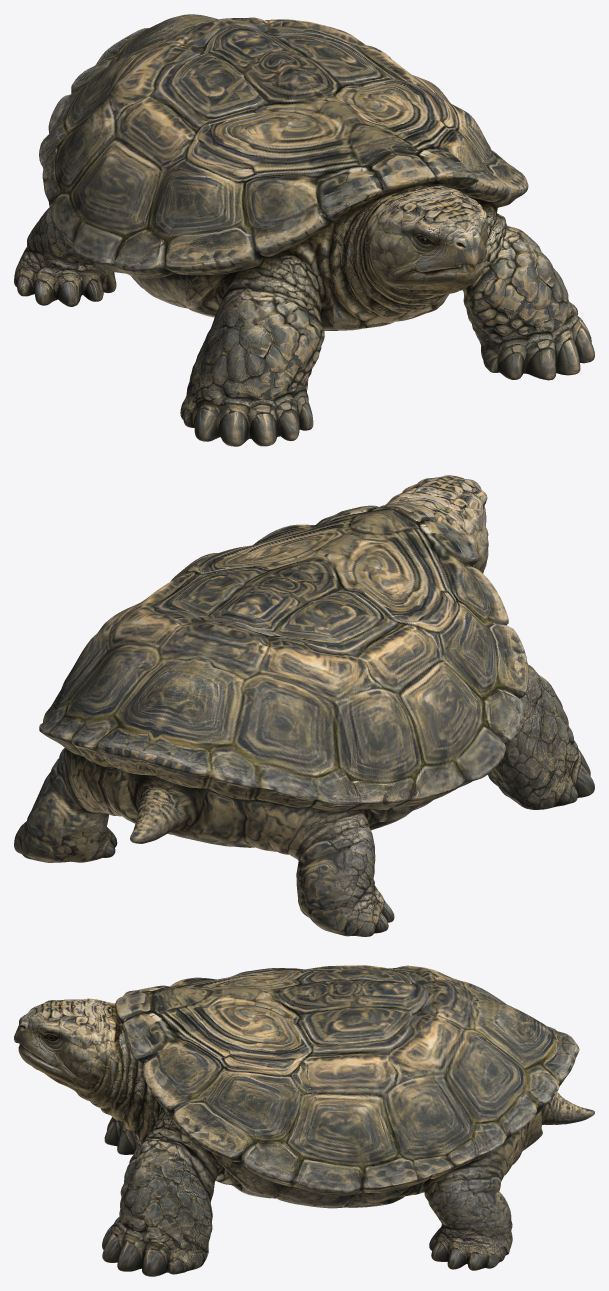
Rendered from tortoise-v1.glb.
3 views of the same model, one above another, from view 1: azimuth 30°, elevation 25°; view 2: azimuth 150°, elevation 25°; view 3: azimuth 270°, elevation 25° (orthographic). The views are drawn at different scales.
Bounding box in the file's own units: 1.32 × 0.7701 × 1.9.
Materials: 1 (1 with a texture image).
